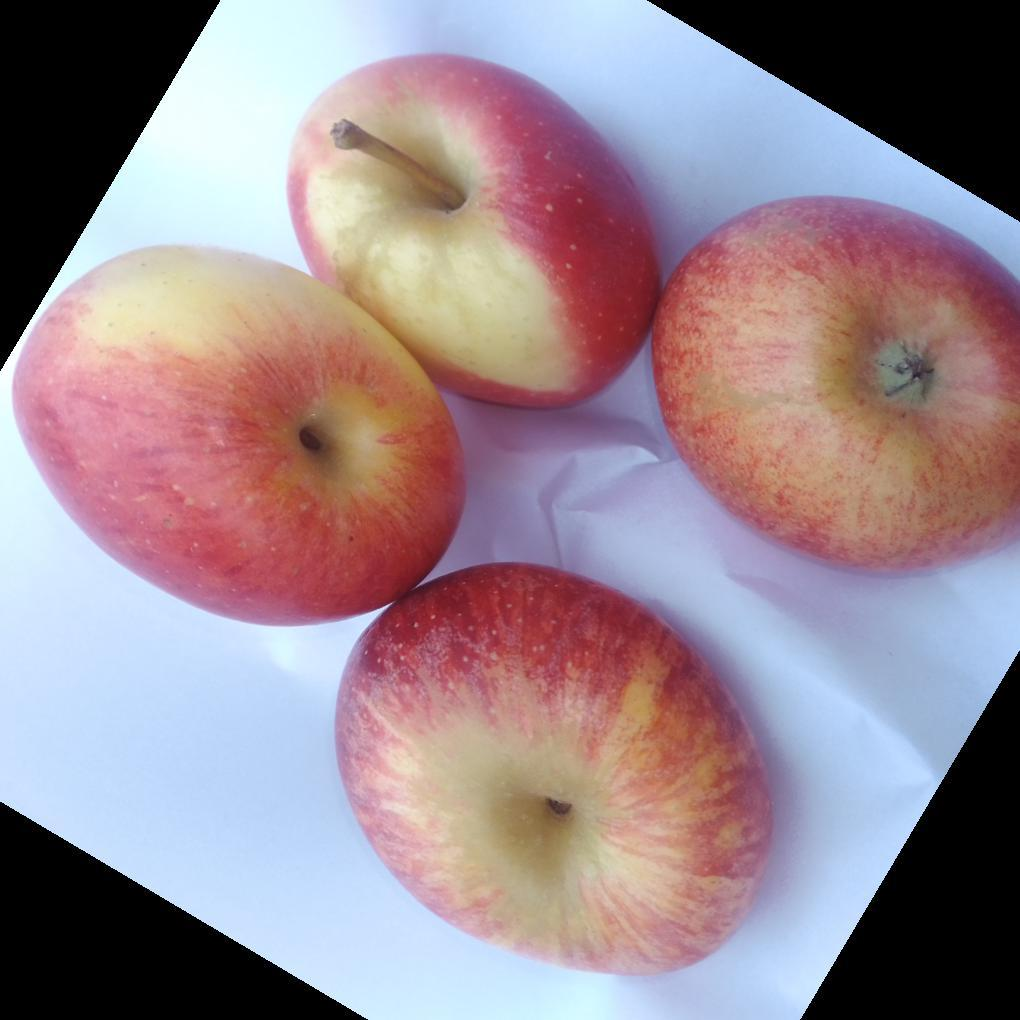FreshGuava: (6, 55, 1020, 981)
